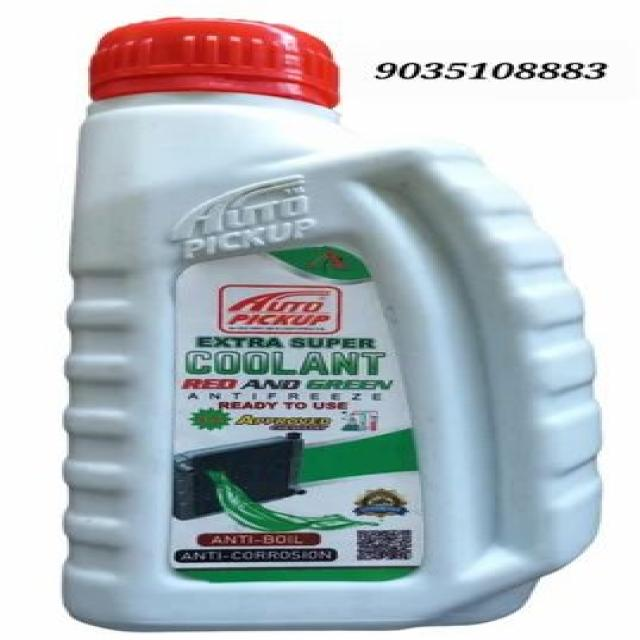coolant: (67, 13, 609, 630)
